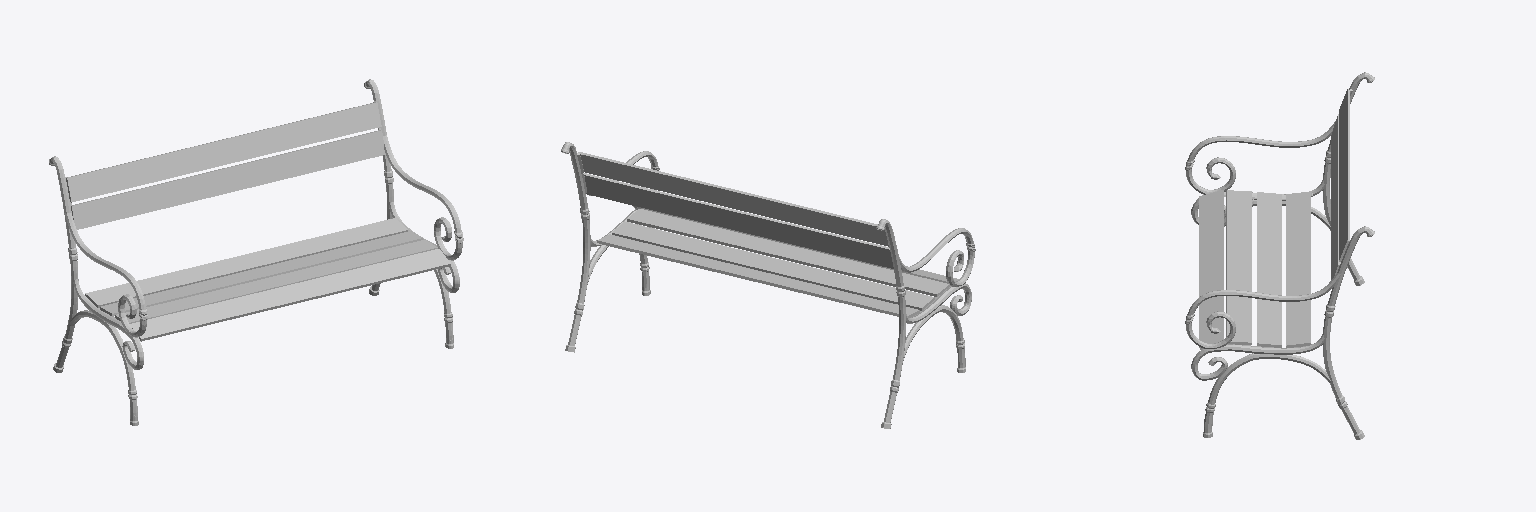
Rendered from WoodenBench.obj.
The picture shows the model from 3 angles: view 1: azimuth 30°, elevation 25°; view 2: azimuth 150°, elevation 25°; view 3: azimuth 270°, elevation 25°; orthographic projection.
Parts seen in each view (by area): view 1: WoodenBench; view 2: WoodenBench; view 3: WoodenBench.
Boxes of the visible parts, <box> form: WoodenBench: <box>49,79,463,425</box>; WoodenBench: <box>561,142,975,428</box>; WoodenBench: <box>1185,72,1374,439</box>.
Bounding box in the file's own units: 1.71 × 1.07 × 0.8667.